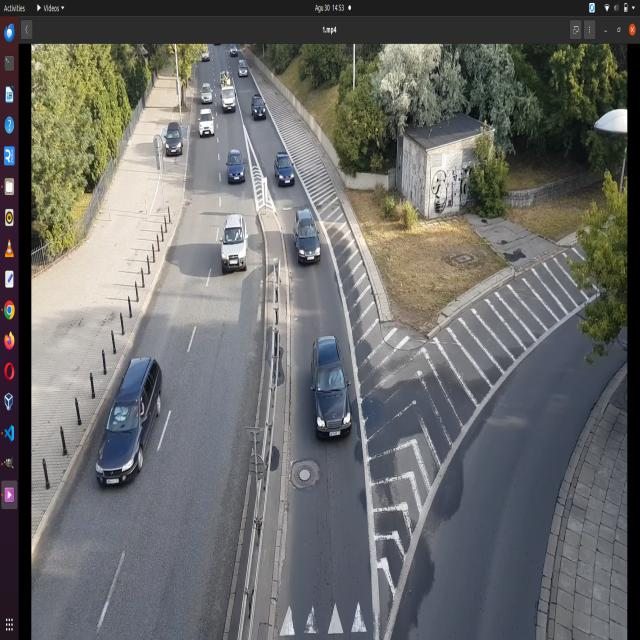person_with_seatbelt: (329, 359, 347, 390)
person_without_seatbelt: (112, 394, 131, 428), (234, 226, 245, 243)
